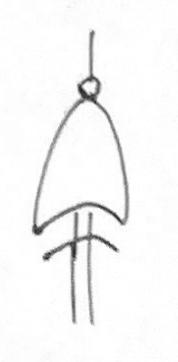XNOR: (21, 64, 145, 262)
